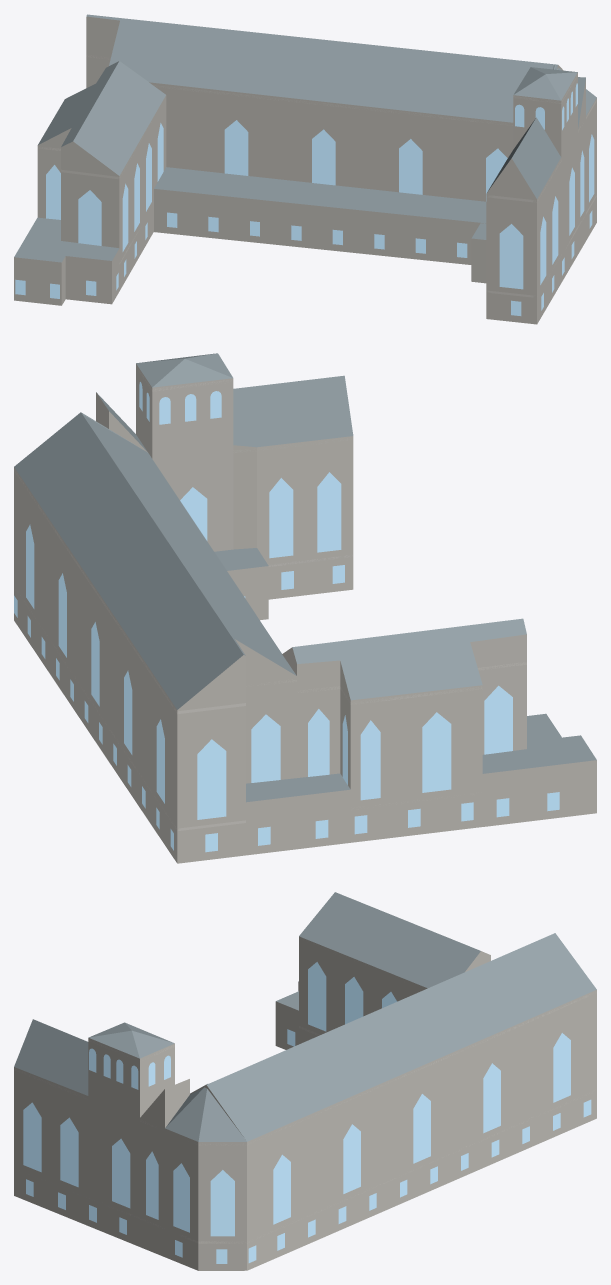
File: detail.glb
3 renders of one model, top to bottom at view 1: azimuth 30°, elevation 25°; view 2: azimuth 150°, elevation 25°; view 3: azimuth 270°, elevation 25°, orthographic. The views are drawn at different scales.
Parts seen in each view (by area): view 1: stone, roof, window, trim; view 2: stone, roof, window, trim; view 3: stone, roof, window, trim.
Part boxes in pixels (<box>): stone: <box>14,16,596,324</box>; roof: <box>14,14,596,262</box>; window: <box>15,83,594,315</box>; trim: <box>37,55,596,297</box>; stone: <box>14,364,596,863</box>; roof: <box>14,353,596,802</box>; window: <box>14,382,559,852</box>; trim: <box>14,366,526,830</box>; stone: <box>14,936,596,1270</box>; roof: <box>14,892,596,1141</box>; window: <box>23,962,591,1263</box>; trim: <box>14,937,596,1243</box>.
Bounding box in the file's own units: 56.27 × 20 × 53.28.
